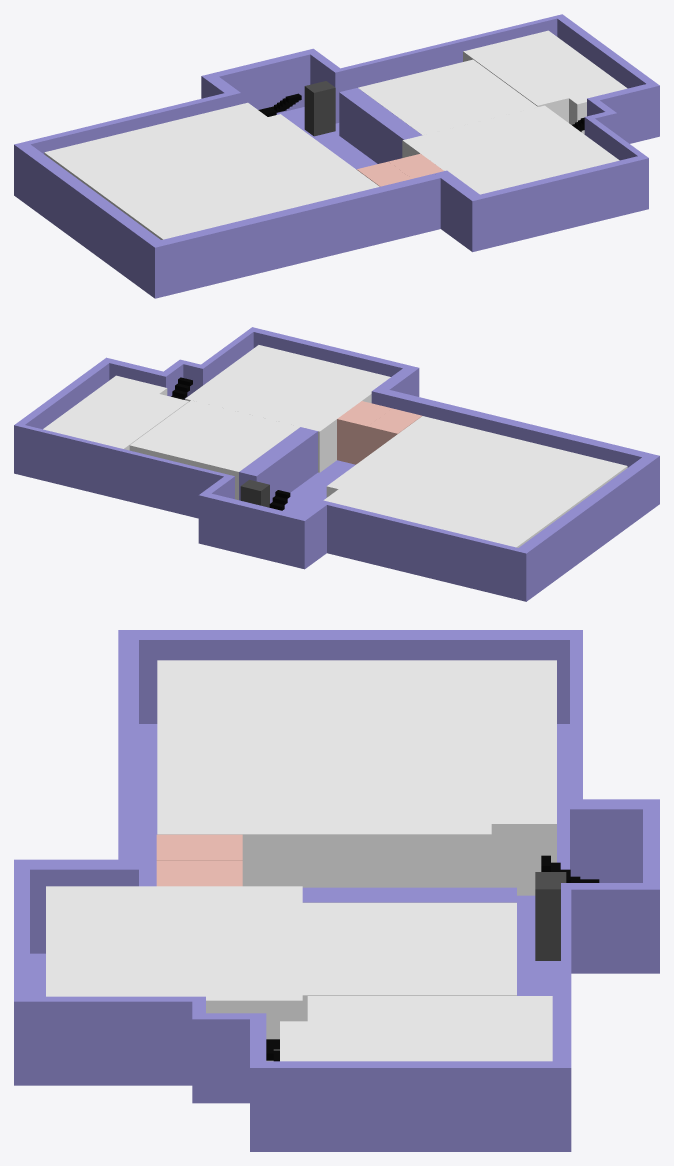
The picture shows the model from 3 angles, top to bottom: view 1: azimuth 30°, elevation 25°; view 2: azimuth 150°, elevation 25°; view 3: azimuth 270°, elevation 25°; orthographic projection. The views are drawn at different scales.
Parts seen in each view (by area): view 1: object, 第3A閲覧室, 書庫, 第3B書庫, 第3C閲覧室, エレベーター_図書館生田分館_3_1, 男子トイレ_図書館生田分館_3_1, 女子トイレ_図書館生田分館_3_1, 階段__図書館生田分館_3_1; view 2: object, 第3A閲覧室, 書庫, 第3B書庫, 第3C閲覧室, 男子トイレ_図書館生田分館_3_1, 女子トイレ_図書館生田分館_3_1, エレベーター_図書館生田分館_3_1; view 3: object, 第3A閲覧室, 書庫, 第3B書庫, 第3C閲覧室, エレベーター_図書館生田分館_3_1, 男子トイレ_図書館生田分館_3_1, 女子トイレ_図書館生田分館_3_1.
Part boxes in pixels (left/top/right/bottom): object: left=14, top=14, right=659, bottom=298; 第3A閲覧室: left=44, top=102, right=379, bottom=239; 書庫: left=402, top=105, right=619, bottom=194; 第3B書庫: left=358, top=59, right=537, bottom=135; 第3C閲覧室: left=463, top=30, right=627, bottom=134; エレベーター_図書館生田分館_3_1: left=304, top=81, right=335, bottom=136; 男子トイレ_図書館生田分館_3_1: left=388, top=153, right=443, bottom=178; 女子トイレ_図書館生田分館_3_1: left=356, top=161, right=411, bottom=186; 階段__図書館生田分館_3_1: left=258, top=93, right=301, bottom=116; object: left=14, top=327, right=659, bottom=601; 第3A閲覧室: left=323, top=416, right=627, bottom=547; 書庫: left=185, top=345, right=390, bottom=472; 第3B書庫: left=129, top=400, right=299, bottom=500; 第3C閲覧室: left=43, top=375, right=188, bottom=450; 男子トイレ_図書館生田分館_3_1: left=337, top=401, right=391, bottom=464; 女子トイレ_図書館生田分館_3_1: left=367, top=408, right=421, bottom=455; エレベーター_図書館生田分館_3_1: left=240, top=479, right=269, bottom=507; object: left=14, top=630, right=659, bottom=1151; 第3A閲覧室: left=157, top=660, right=556, bottom=895; 書庫: left=46, top=886, right=302, bottom=1061; 第3B書庫: left=302, top=902, right=516, bottom=1021; 第3C閲覧室: left=280, top=996, right=552, bottom=1061; エレベーター_図書館生田分館_3_1: left=535, top=872, right=566, bottom=960; 男子トイレ_図書館生田分館_3_1: left=156, top=860, right=242, bottom=886; 女子トイレ_図書館生田分館_3_1: left=156, top=834, right=242, bottom=860.
Bounding box in the file's own units: 2.35 × 0.2134 × 1.46.
